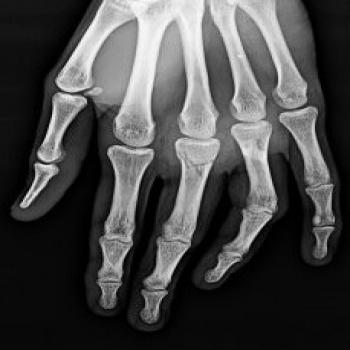Fracture: (174, 149, 221, 176)
